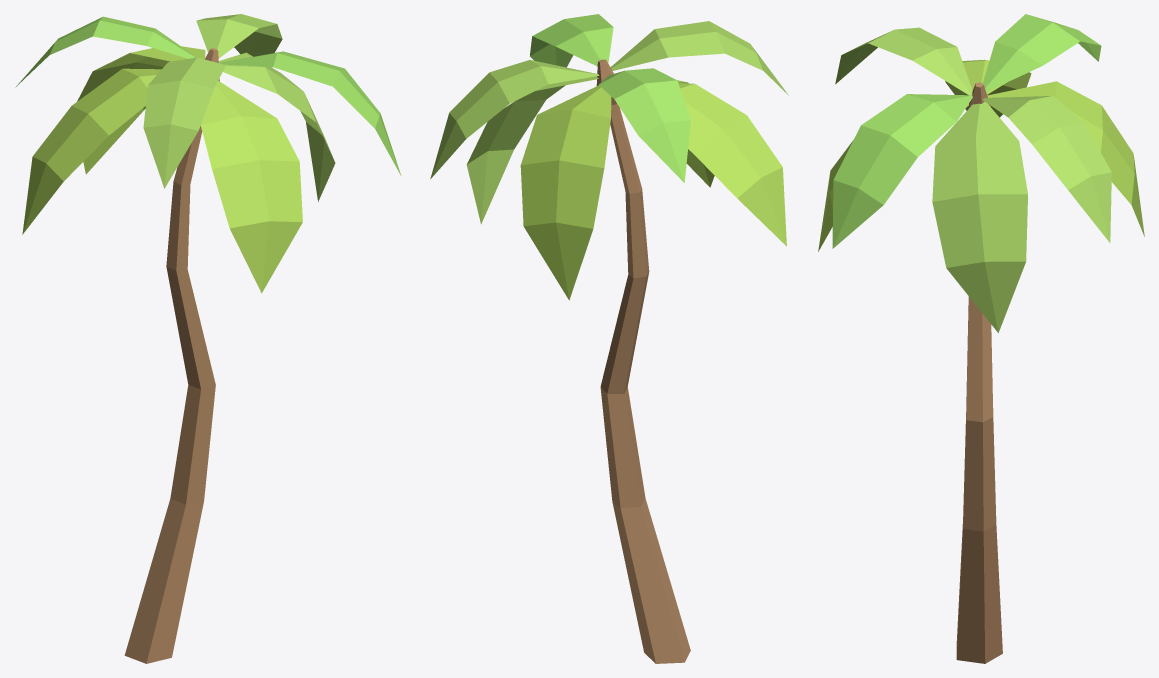
Rendered from Palm_Tree_OneSided_m_04_LOD.fbx.
The picture shows the model from 3 angles, left to right: view 1: azimuth 30°, elevation 25°; view 2: azimuth 150°, elevation 25°; view 3: azimuth 270°, elevation 25°; orthographic projection. The views are drawn at different scales.
Visible parts, largest first — view 1: Palm_Tree_OneSided_m_04_LOD0; view 2: Palm_Tree_OneSided_m_04_LOD0; view 3: Palm_Tree_OneSided_m_04_LOD0.
Part boxes in pixels (x1,y1,x2,y2): Palm_Tree_OneSided_m_04_LOD0: (15, 14, 401, 663); Palm_Tree_OneSided_m_04_LOD0: (430, 14, 788, 663); Palm_Tree_OneSided_m_04_LOD0: (818, 14, 1144, 663).
Size of what is drawn, in the model's own units: 319 by 600 by 284.
